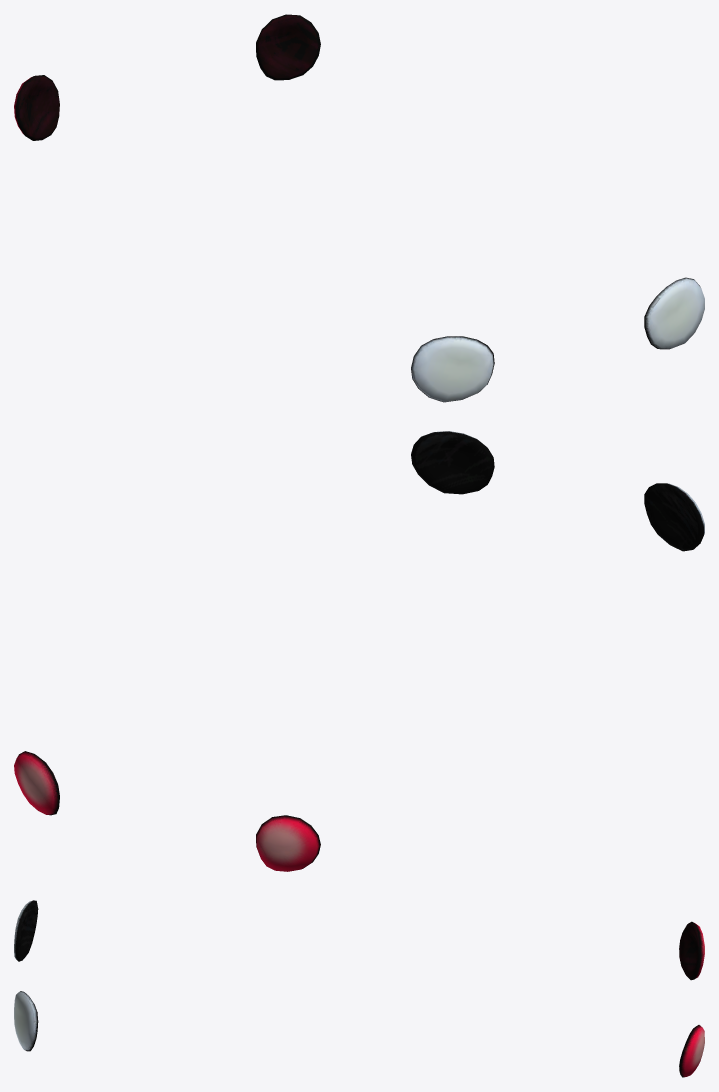
Rendered from ClownCar.glb.
3 views of the same model, one above another, from view 1: azimuth 30°, elevation 25°; view 2: azimuth 150°, elevation 25°; view 3: azimuth 270°, elevation 25° (orthographic). The views are drawn at different scales.
Parts seen in each view (by area): view 1: frontLights, backLights; view 2: frontLights, backLights; view 3: frontLights, backLights.
Part boxes in pixels (bbox=[...]): frontLights: bbox=[411, 277, 704, 402]; backLights: bbox=[14, 14, 320, 140]; frontLights: bbox=[411, 431, 704, 551]; backLights: bbox=[14, 751, 320, 871]; frontLights: bbox=[14, 900, 38, 1051]; backLights: bbox=[679, 921, 704, 1077].
Bounding box in the file's own units: 1.52 × 0.4404 × 3.62.
2 materials, 2 textured.
